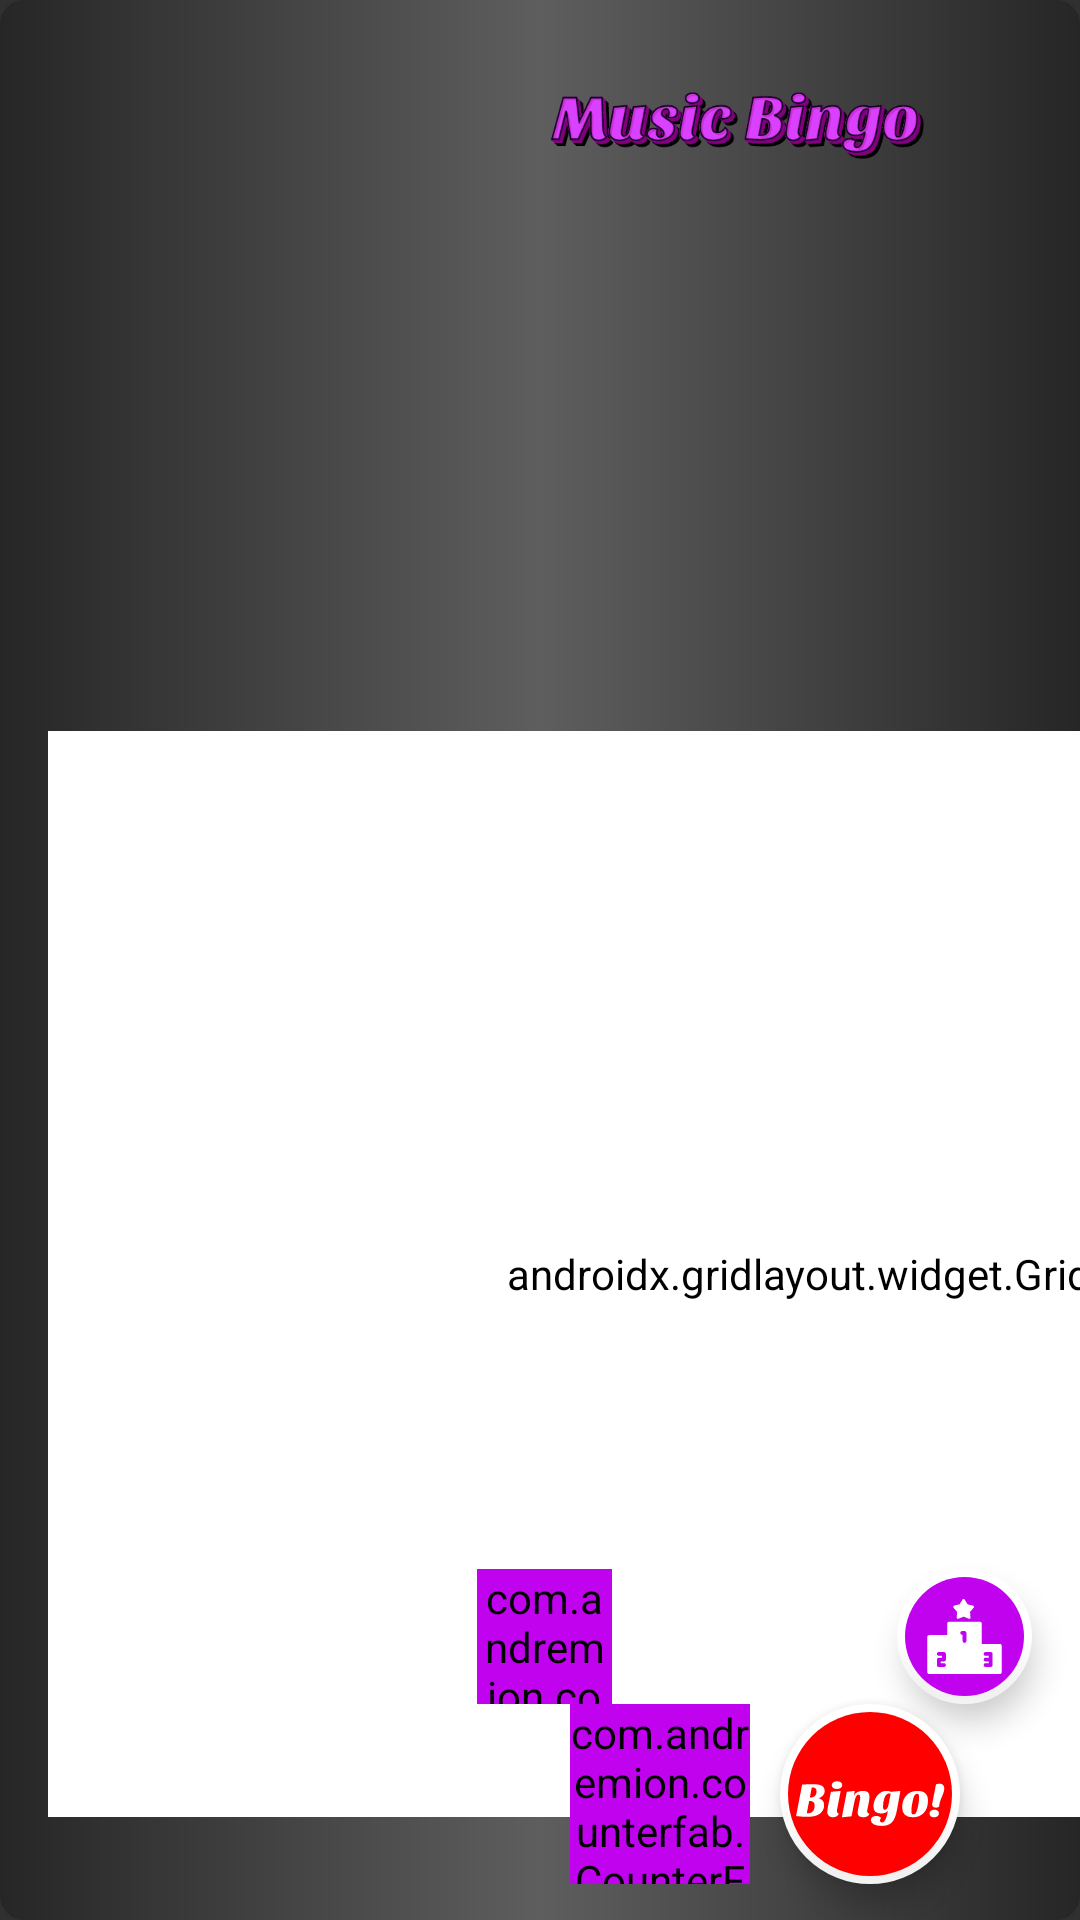

Where icons sit on this 1080px×1920px app screen, as (x1, y1, x2, y2):
podium: (905, 1577, 1024, 1696)
